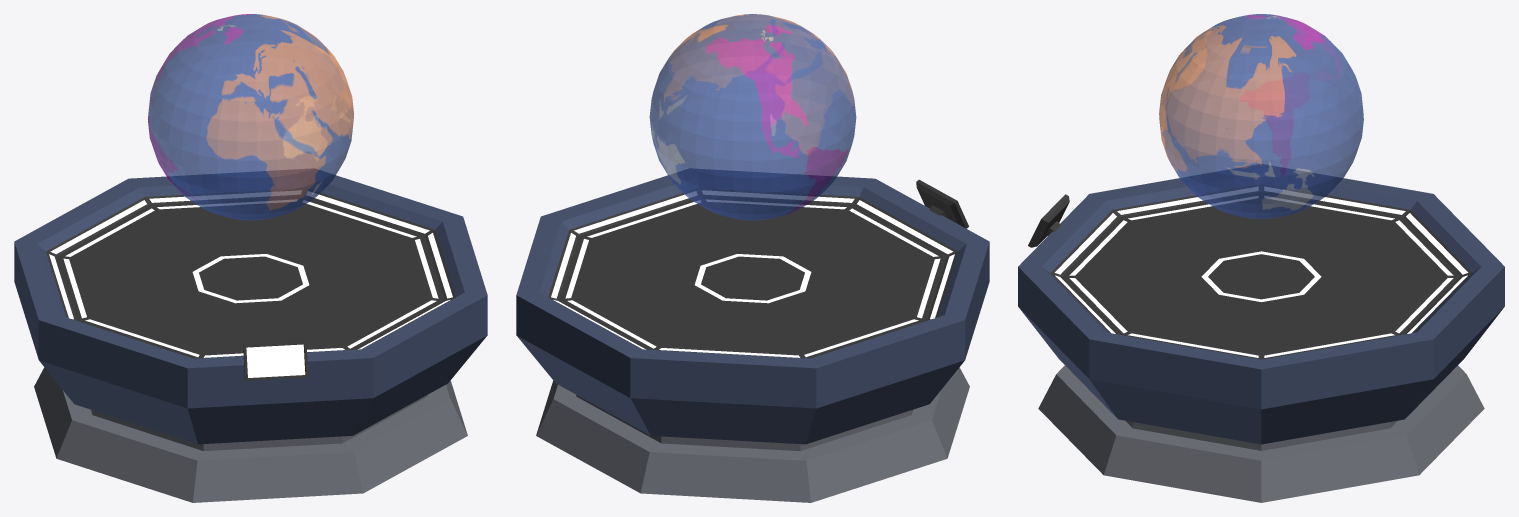
Rendered from holo_table 1.fbx.
The picture shows the model from 3 angles, left to right: view 1: azimuth 30°, elevation 25°; view 2: azimuth 150°, elevation 25°; view 3: azimuth 270°, elevation 25°; orthographic projection.
Visible parts, largest first — view 1: table, globe; view 2: table, globe; view 3: table, globe.
Part boxes in pixels (box(x1,y1,x2,y2)): table: box(14, 168, 487, 502); globe: box(148, 14, 353, 220); table: box(516, 168, 989, 502); globe: box(649, 14, 856, 220); table: box(1018, 164, 1504, 502); globe: box(1159, 14, 1363, 218).
Size of the model in its own units: 352 by 308 by 352.
